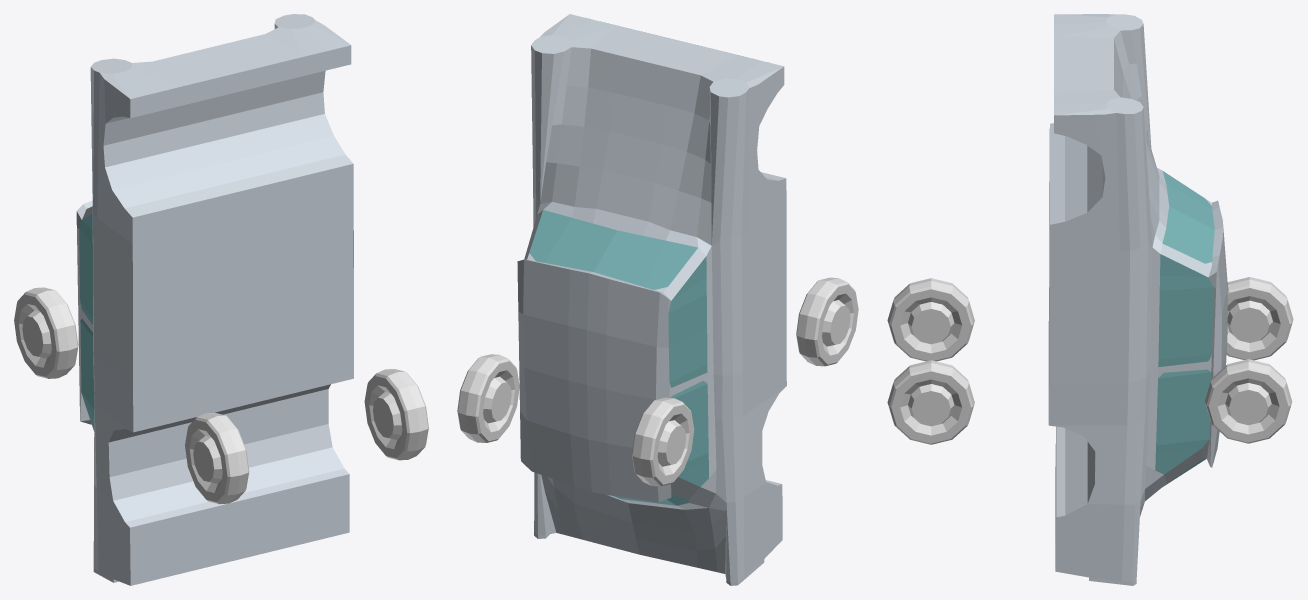
The model's file is lowvertecies.fbx.
The picture shows the model from 3 angles, left to right: view 1: azimuth 30°, elevation 25°; view 2: azimuth 150°, elevation 25°; view 3: azimuth 270°, elevation 25°; orthographic projection. The views are drawn at different scales.
Parts seen in each view (by area): view 1: Plane, Circle.003, Circle.002, Circle.001; view 2: Plane, Circle.001, Circle.000, Circle.003; view 3: Plane, Circle.002, Circle.000, Circle.001, Circle.003.
Boxes of the visible parts, <box> form: Plane: <box>76,14,353,585</box>; Circle.003: <box>14,287,78,378</box>; Circle.002: <box>364,369,428,460</box>; Circle.001: <box>185,412,249,504</box>; Plane: <box>517,14,786,585</box>; Circle.001: <box>796,277,858,366</box>; Circle.000: <box>457,354,519,442</box>; Circle.003: <box>632,397,694,486</box>; Plane: <box>1048,14,1227,585</box>; Circle.002: <box>887,360,974,444</box>; Circle.000: <box>1205,359,1292,443</box>; Circle.001: <box>887,278,974,361</box>; Circle.003: <box>1226,277,1293,360</box>.
Size of the model in its own units: 873 by 1908 by 1476.
